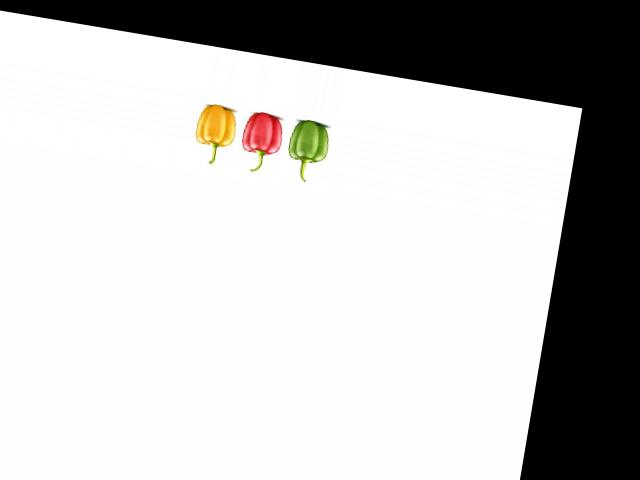bell_pepper: (283, 114, 336, 185)
